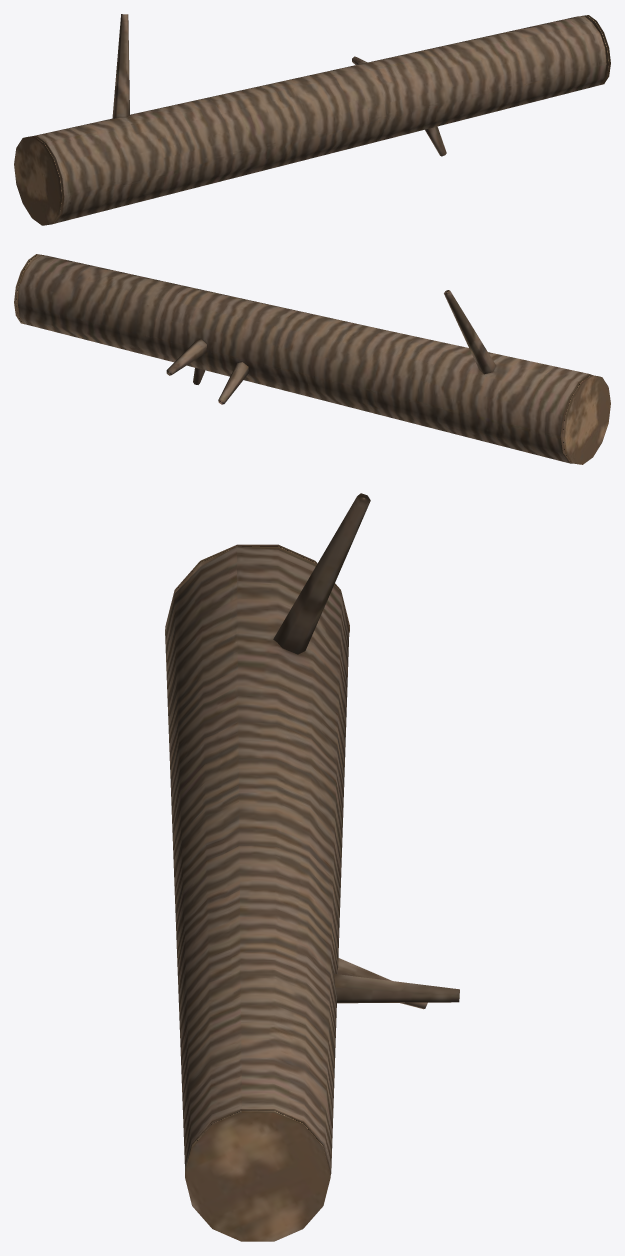
The model's file is log.glb.
3 renders of one model, top to bottom at view 1: azimuth 30°, elevation 25°; view 2: azimuth 150°, elevation 25°; view 3: azimuth 270°, elevation 25°, orthographic. The views are drawn at different scales.
Parts seen in each view (by area): view 1: log; view 2: log; view 3: log.
Boxes of the visible parts, box(x1,y1,x2,y2) form: log: box(14, 14, 610, 225); log: box(14, 254, 610, 464); log: box(165, 493, 459, 1241).
Bounding box in the file's own units: 5.28 × 1.7 × 1.21.
Materials: 2 (2 with a texture image).
